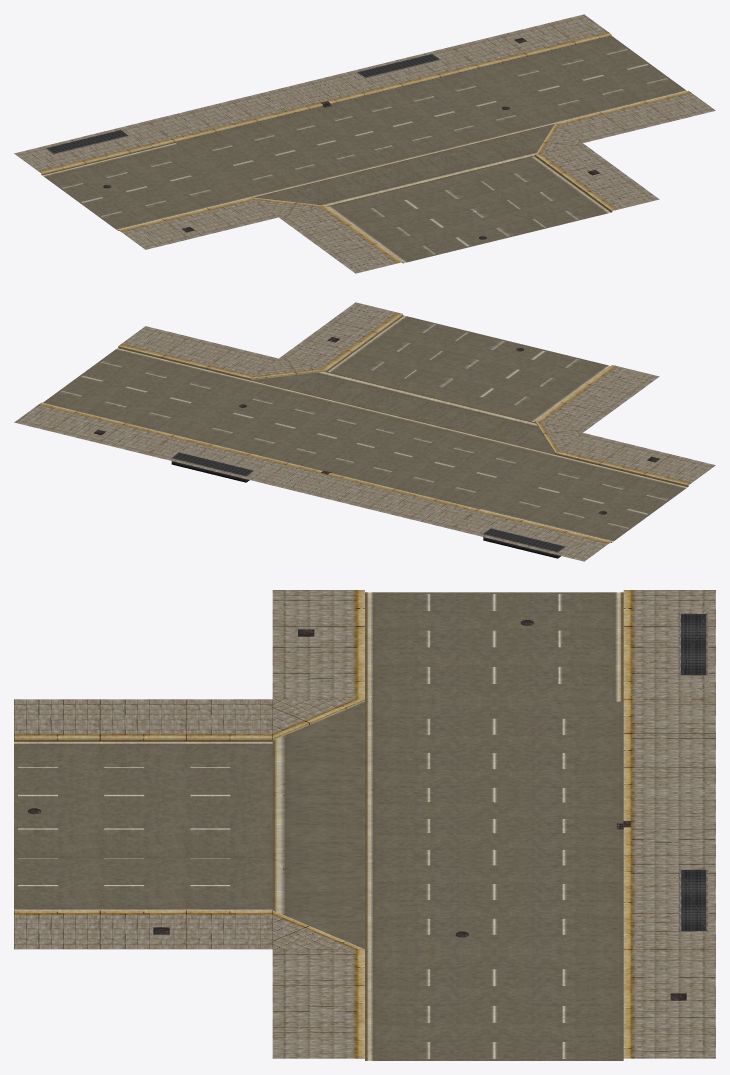
File: Road2_Part_04_B.fbx
3 views of the same model, one above another, from view 1: azimuth 30°, elevation 25°; view 2: azimuth 150°, elevation 25°; view 3: azimuth 270°, elevation 25° (orthographic). The views are drawn at different scales.
Visible parts, largest first — view 1: Model_Road2_Part_04_B; view 2: Model_Road2_Part_04_B; view 3: Model_Road2_Part_04_B.
Boxes of the visible parts, box(x1,y1,x2,y2) form: Model_Road2_Part_04_B: box(14, 14, 715, 273); Model_Road2_Part_04_B: box(14, 302, 715, 561); Model_Road2_Part_04_B: box(14, 590, 715, 1060).
Bounding box in the file's own units: 6000 × 65.51 × 3800.
